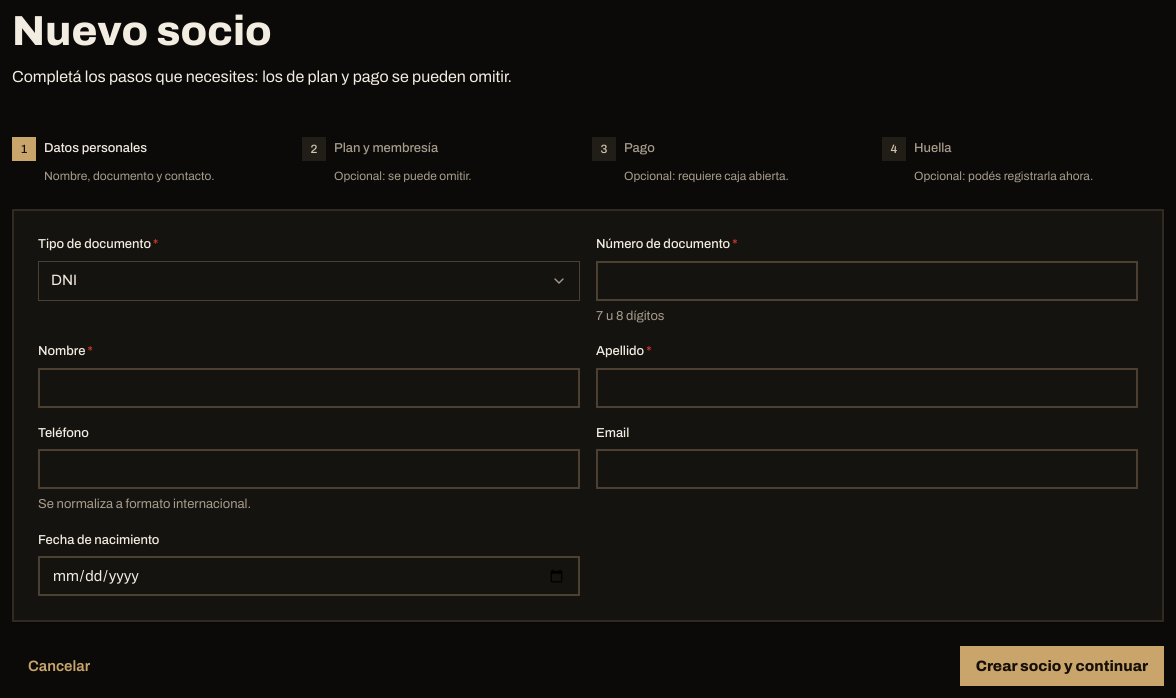
NewMemberPage › vacío en el paso 1 muestra los alerts de validación y no crea el socio
Click the button "Crear socio y continuar" at [1062, 666], box [960,646,1164,686]
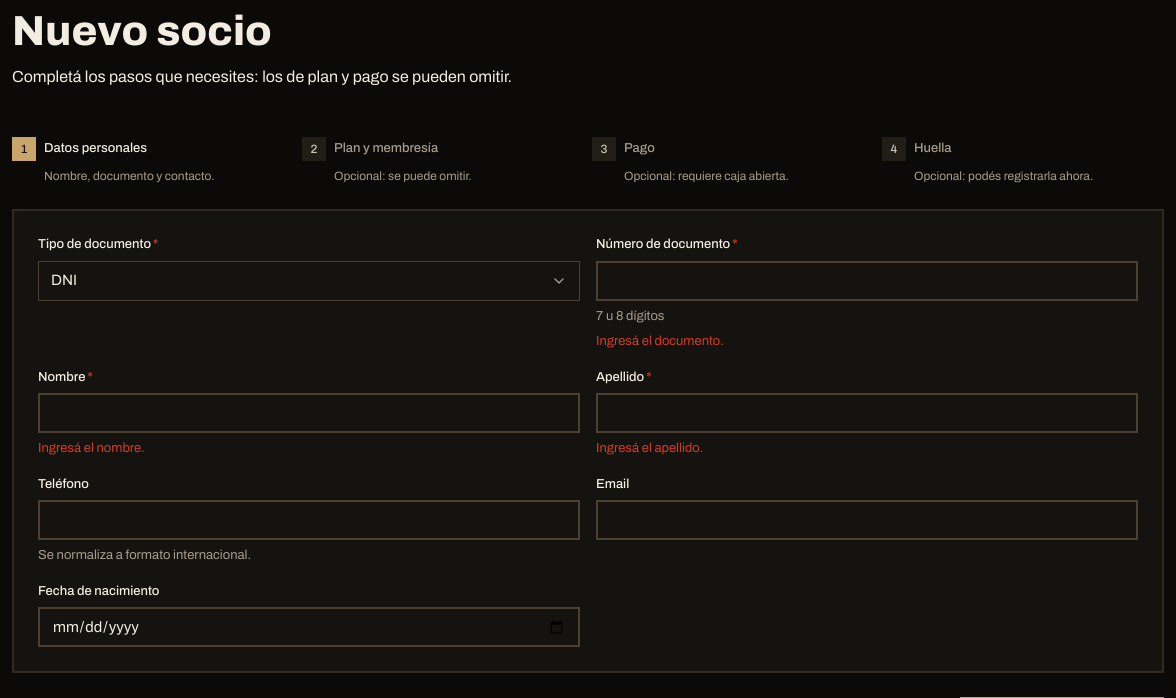
Check: the message "Ingresá el documento." is shown, box [596,334,724,348]
